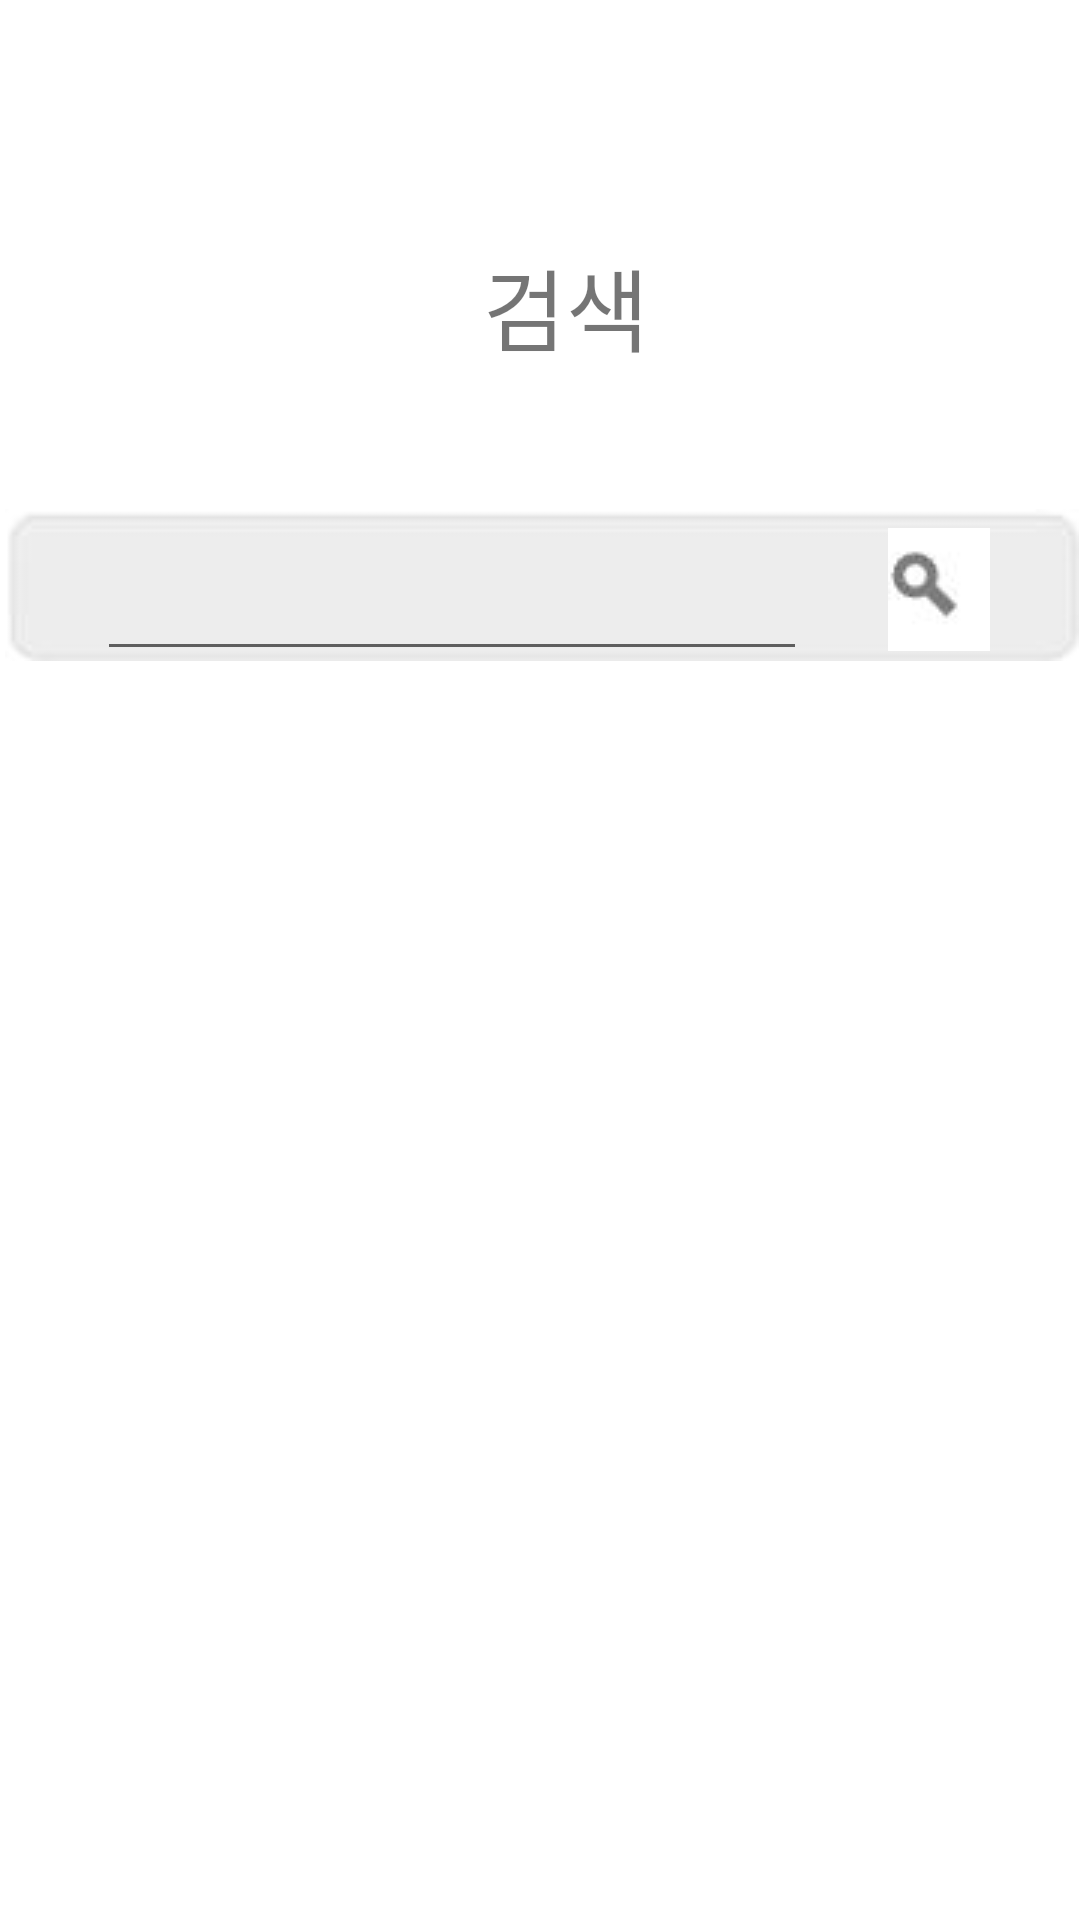

Named icons in this screenshot (1080x1920) and their centers, [x,y]:
search only: [939,589]
